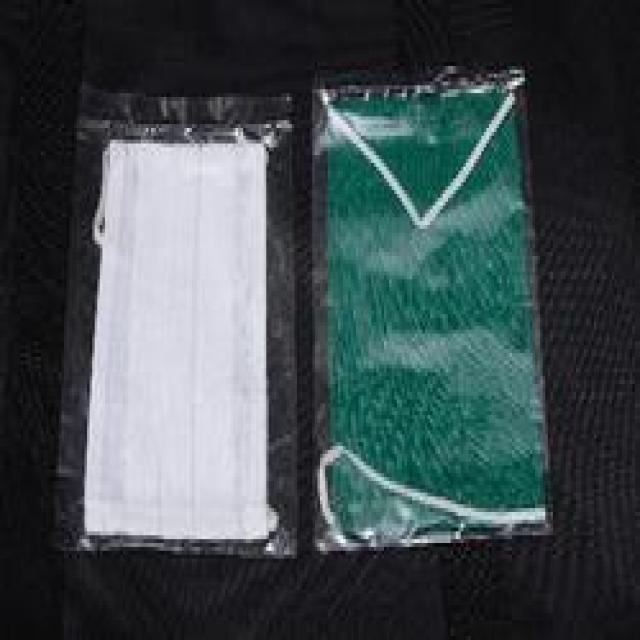non-organic waste: (320, 93, 538, 547), (90, 124, 279, 555)
